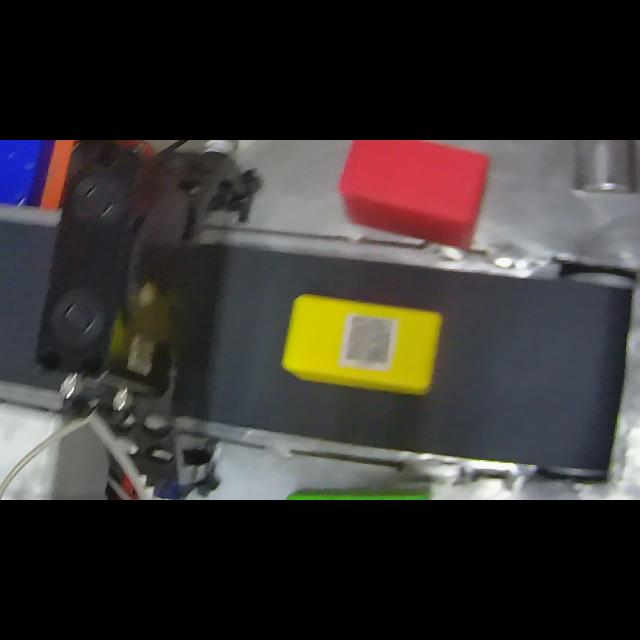redBox: (336, 140, 492, 250)
yellowBox: (282, 287, 444, 398)
